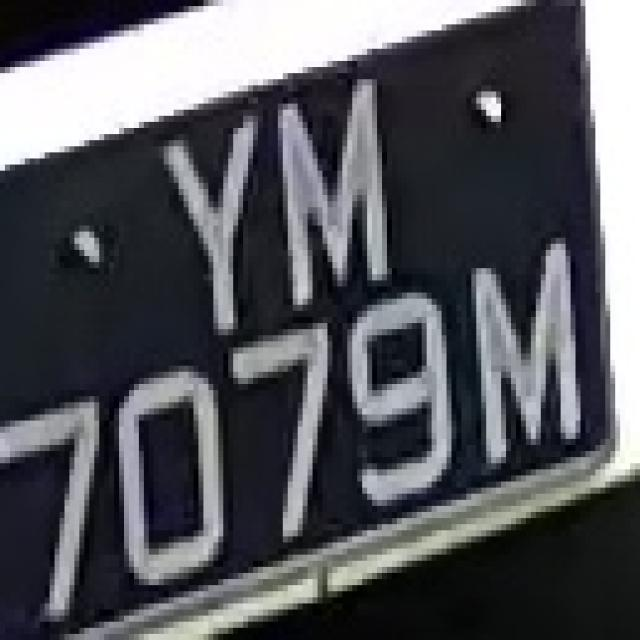0: (109, 348, 238, 610)
7: (198, 323, 338, 549), (5, 384, 109, 640)
9: (338, 280, 472, 518)
M: (263, 85, 422, 317), (452, 250, 590, 463)
Y: (139, 116, 263, 341)
